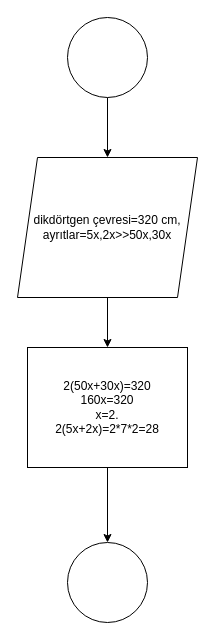
The diagram is 215 pixels wide and 640 high, and some of its shapes have lost their labels. Each missing label, with the box of its shape:
BAŞLA: (66, 16, 148, 98)
DUR: (66, 542, 148, 622)
